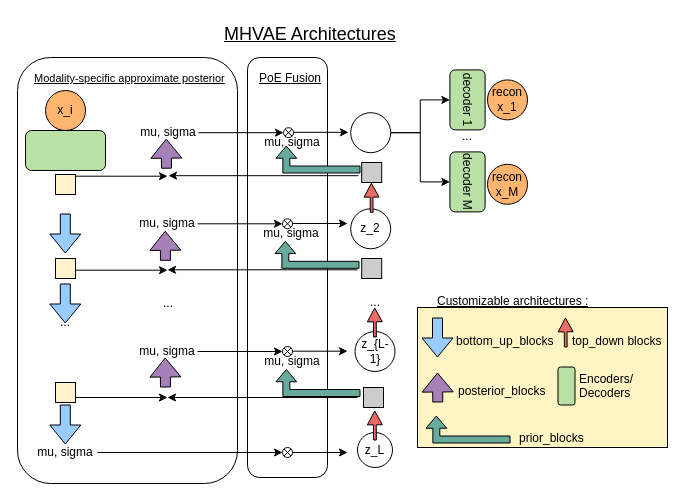
Image size: 685x501. Some labels were removed from this diagram. The centre of each missing label's shape, as x and y in pixels:
"encoder" belongs at (65,150).
"z_1" belongs at (370,132).
